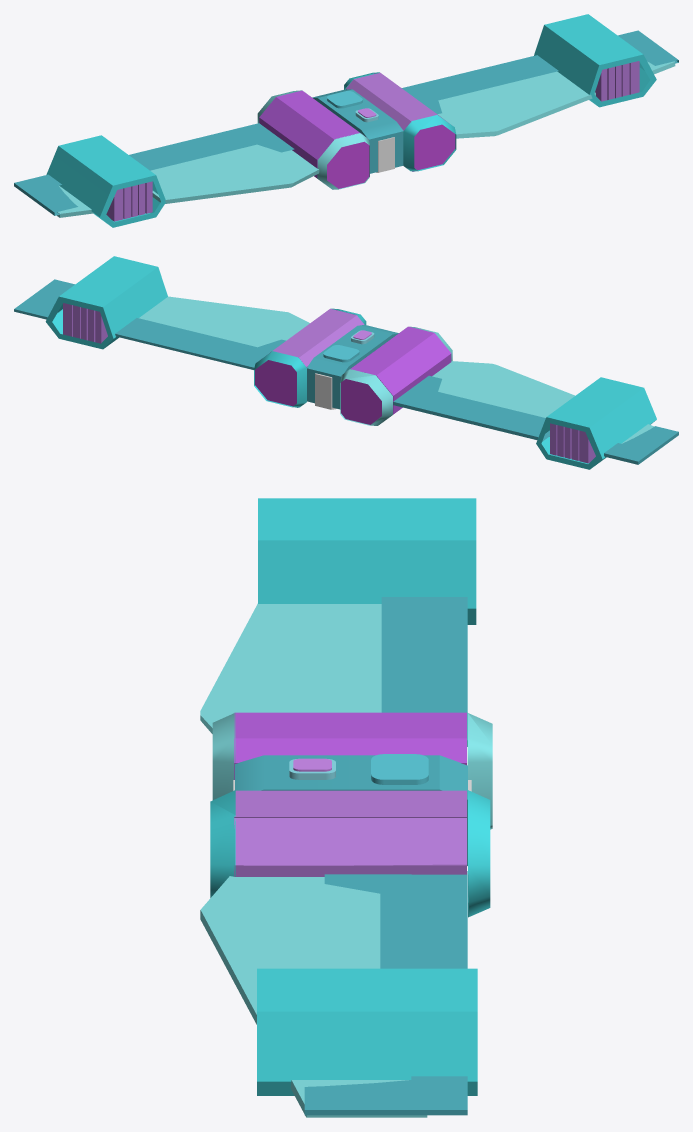
Rendered from jetpack.fbx.
3 renders of one model, top to bottom at view 1: azimuth 30°, elevation 25°; view 2: azimuth 150°, elevation 25°; view 3: azimuth 270°, elevation 25°, orthographic. The views are drawn at different scales.
Visible parts, largest first — view 1: 000_Box_-_baked_20; view 2: 000_Box_-_baked_20; view 3: 000_Box_-_baked_20.
Part boxes in pixels (box(x1,y1,x2,y2)): 000_Box_-_baked_20: box(14, 14, 678, 227); 000_Box_-_baked_20: box(14, 256, 678, 469); 000_Box_-_baked_20: box(200, 498, 492, 1117).
Size of the model in its own units: 33527 by 2864 by 6799.
